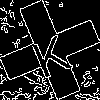K: (25, 25, 74, 80)
